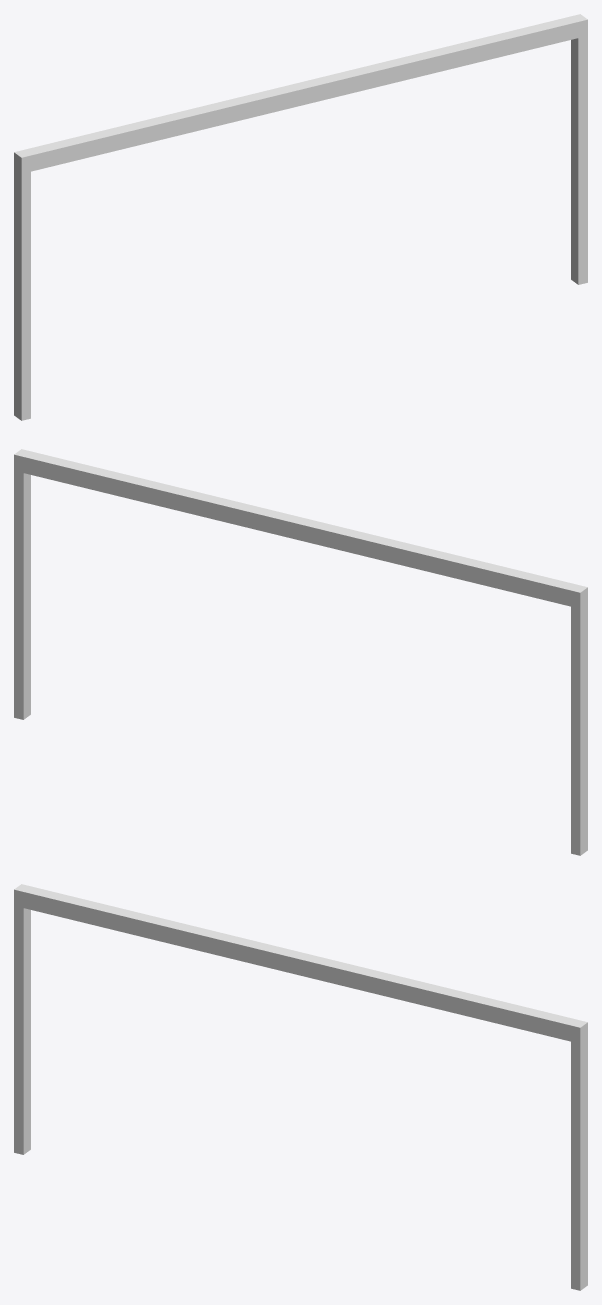
File: Goal.glb
The picture shows the model from 3 angles, top to bottom: view 1: azimuth 30°, elevation 25°; view 2: azimuth 150°, elevation 25°; view 3: azimuth 330°, elevation 25°; orthographic projection.
Parts seen in each view (by area): view 1: Goal; view 2: Goal; view 3: Goal.
Boxes of the visible parts, x1,y1,x2,y2 form: Goal: [14, 14, 587, 420]; Goal: [14, 449, 587, 855]; Goal: [14, 884, 587, 1290].
Bounding box in the file's own units: 15.09 × 6.7 × 0.3498.
1 material, 1 textured.
